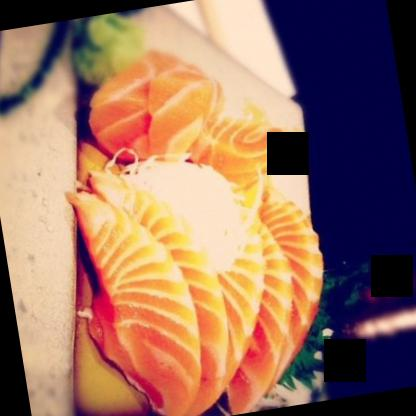salmon: (53, 37, 342, 415)
